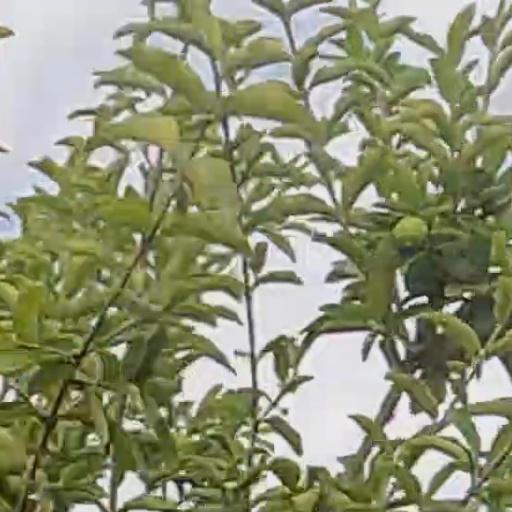acerola: (393, 215, 425, 248)
